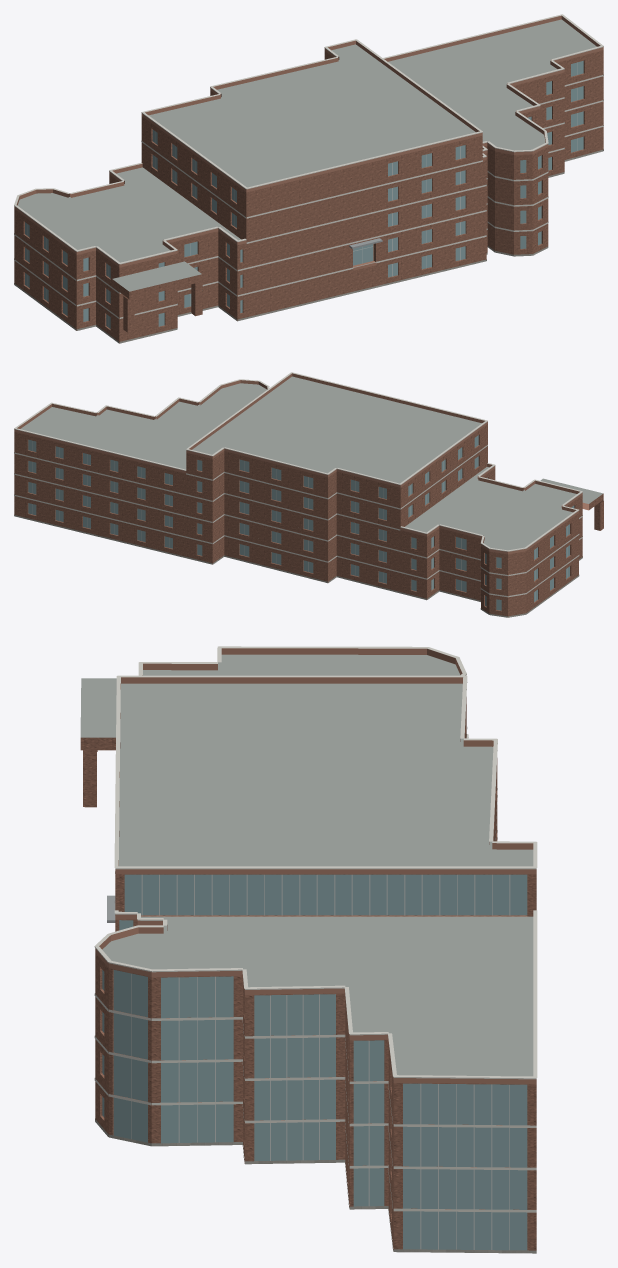
3 renders of one model, top to bottom at view 1: azimuth 30°, elevation 25°; view 2: azimuth 150°, elevation 25°; view 3: azimuth 270°, elevation 25°, orthographic. The views are drawn at different scales.
Parts seen in each view (by area): view 1: w18__wall, w18__roof, w18__trim, w18__glass, w18__parapet, w18__base, w18__frame; view 2: w18__wall, w18__roof, w18__glass, w18__trim, w18__parapet, w18__base, w18__frame; view 3: w18__roof, w18__glass, w18__wall, w18__trim, w18__parapet, w18__frame, w18__base.
Part boxes in pixels (x1,y1,x2,y2): w18__wall: (14, 50, 603, 343); w18__roof: (17, 19, 596, 291); w18__trim: (14, 14, 603, 318); w18__glass: (25, 61, 583, 328); w18__parapet: (14, 15, 603, 267); w18__base: (14, 149, 603, 343); w18__frame: (27, 62, 577, 327); w18__wall: (14, 424, 603, 617); w18__roof: (20, 376, 603, 550); w18__glass: (28, 435, 574, 610); w18__trim: (14, 372, 582, 597); w18__parapet: (14, 373, 582, 554); w18__base: (14, 515, 582, 617); w18__frame: (32, 441, 567, 601); w18__roof: (80, 654, 533, 1253); w18__glass: (102, 874, 527, 1250); w18__wall: (80, 697, 536, 1250); w18__trim: (94, 646, 537, 1212); w18__parapet: (95, 648, 536, 1084); w18__frame: (131, 874, 510, 1250); w18__base: (95, 1118, 536, 1253).
Size of the model in its own units: 96.25 by 20.62 by 39.19.
Materials: 10 (2 with a texture image).
